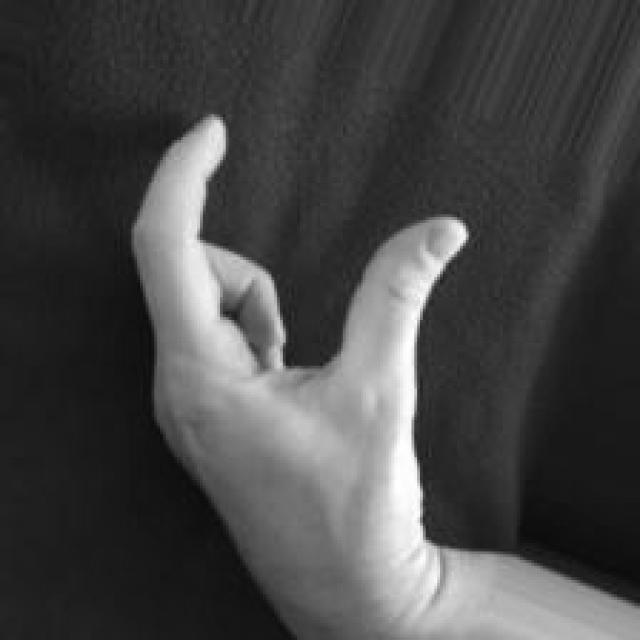U: (118, 111, 473, 612)
